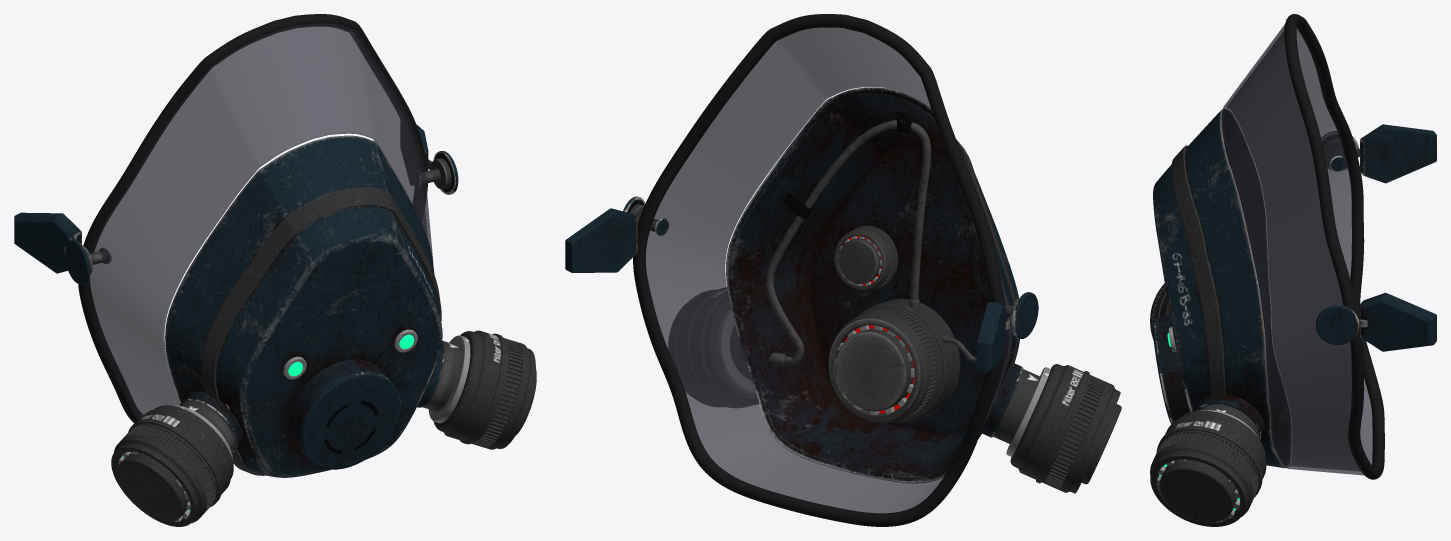
File: gas_maskrespirator.glb
3 renders of one model, left to right at view 1: azimuth 30°, elevation 25°; view 2: azimuth 150°, elevation 25°; view 3: azimuth 270°, elevation 25°, orthographic. The views are drawn at different scales.
Visible parts, largest first — view 1: polySurface250; view 2: polySurface250; view 3: polySurface250.
Boxes of the visible parts, x1,y1,x2,y2 form: polySurface250: [14, 14, 536, 526]; polySurface250: [565, 14, 1121, 526]; polySurface250: [1150, 14, 1436, 526].
Bounding box in the file's own units: 77.58 × 79.08 × 48.9.
Materials: 2 (2 with a texture image).
